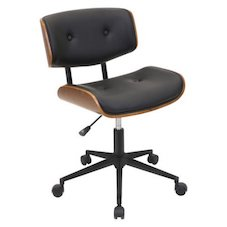chair: (27, 5, 206, 224)
